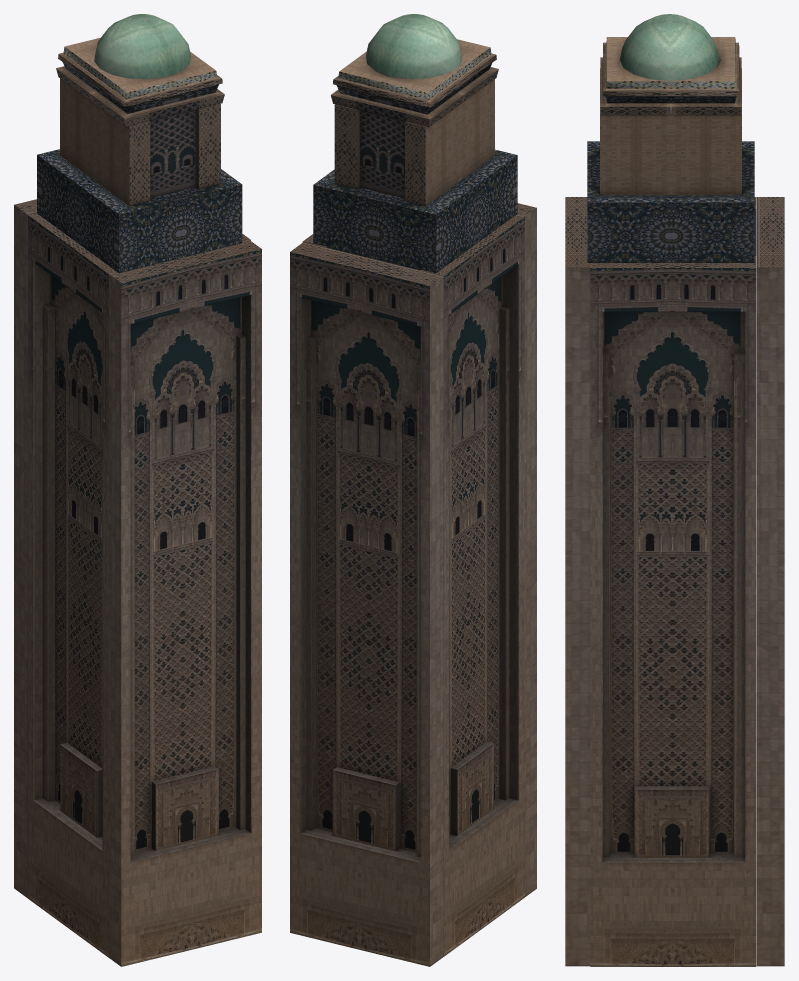
The model's file is building17.dae.
The picture shows the model from 3 angles, left to right: view 1: azimuth 30°, elevation 25°; view 2: azimuth 150°, elevation 25°; view 3: azimuth 270°, elevation 25°; orthographic projection. The views are drawn at different scales.
Parts seen in each view (by area): view 1: meshU3D; view 2: meshU3D; view 3: meshU3D.
Part boxes in pixels (<box>): meshU3D: <box>14,14,261,966</box>; meshU3D: <box>290,14,536,966</box>; meshU3D: <box>565,14,784,966</box>.
Size of the model in its own units: 151 by 908 by 198.
